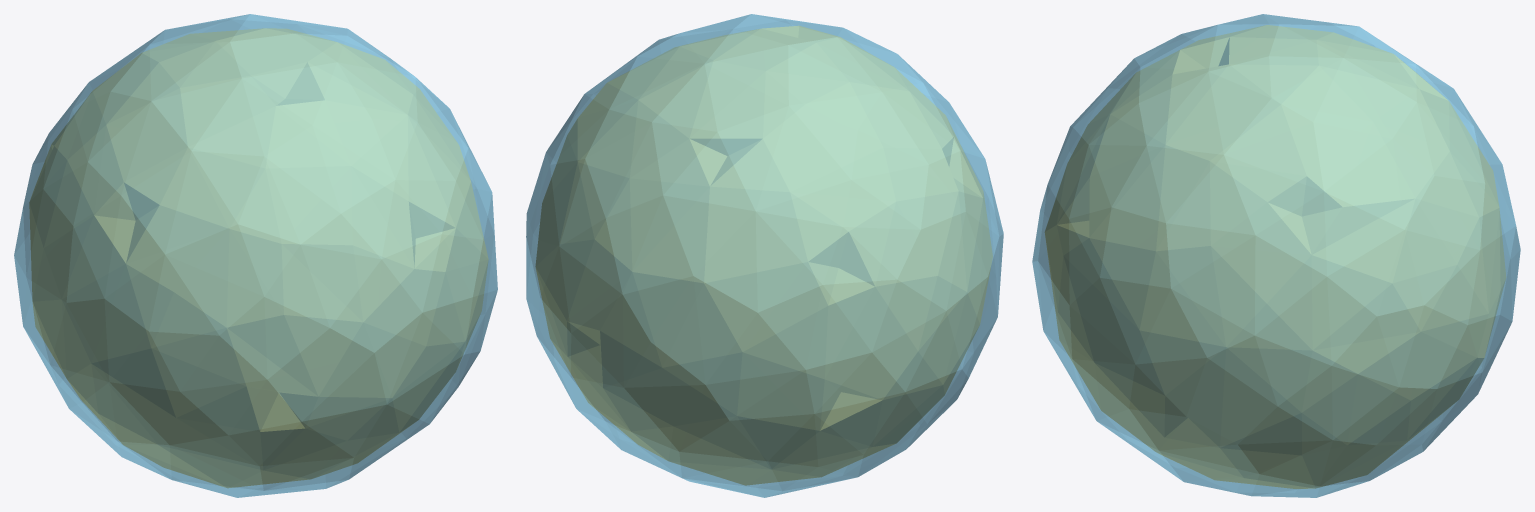
File: water_planet5.fbx
3 renders of one model, left to right at view 1: azimuth 30°, elevation 25°; view 2: azimuth 150°, elevation 25°; view 3: azimuth 270°, elevation 25°, orthographic.
Parts seen in each view (by area): view 1: water_planet5; view 2: water_planet5; view 3: water_planet5.
Part boxes in pixels (x1=…): water_planet5: x1=14, y1=14, x2=497, y2=497; water_planet5: x1=526, y1=14, x2=1003, y2=497; water_planet5: x1=1032, y1=14, x2=1520, y2=497.
Size of the model in its own units: 190 by 190 by 191.
